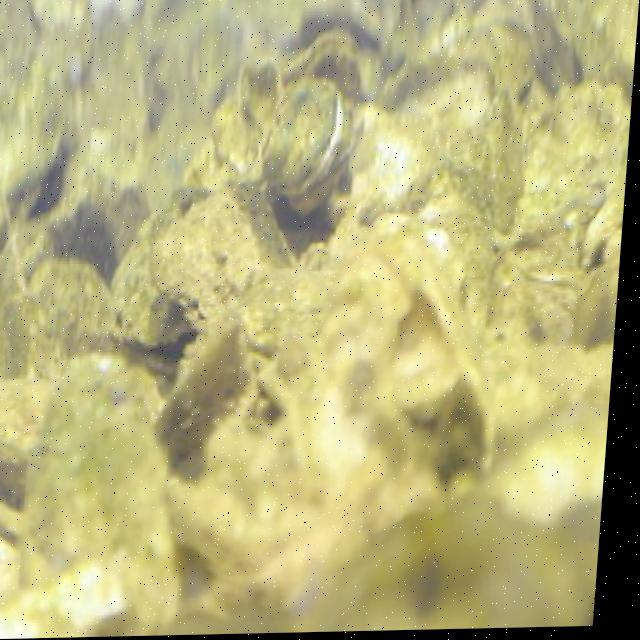Oyster-Closed: (264, 69, 343, 201), (280, 31, 365, 107)
Oyster-Indeterminate: (22, 358, 181, 635), (151, 192, 291, 323), (515, 88, 631, 242), (114, 177, 210, 353), (485, 415, 608, 531), (157, 311, 246, 455), (24, 264, 114, 384), (241, 265, 341, 350), (573, 254, 620, 343)
Oyster-Open: (0, 376, 55, 539)
